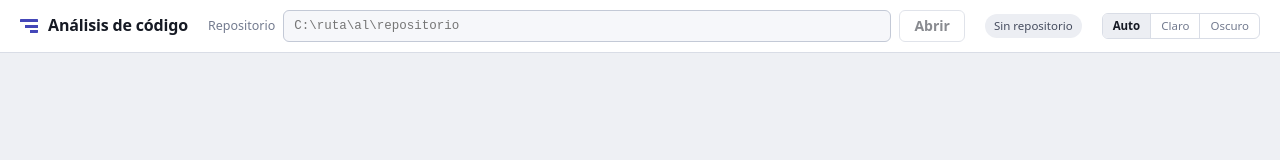
it: WorkspaceBar › un 400 invalid_request se muestra con el texto del cliente y el detalle
In the field labelled "Repositorio": (587, 26) x1=283 y1=10 x2=892 y2=42, type "C:\\repos\\solo-lectura"
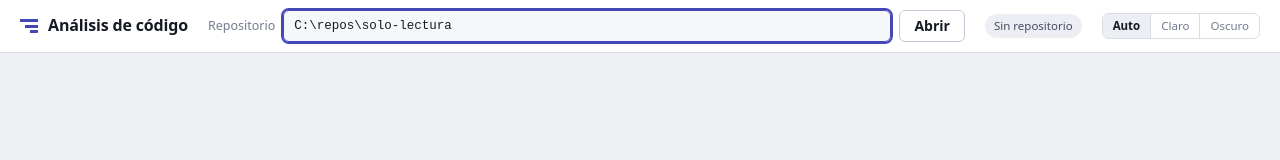
Click the button "Abrir": click(932, 26) x1=899 y1=10 x2=965 y2=42
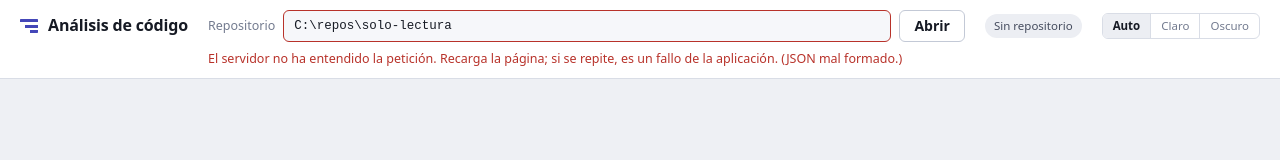
Expected: the message shows "El servidor no ha entendido la petición.", x1=208 y1=50 x2=902 y2=67
Expected: the message shows "(JSON mal formado.)", x1=208 y1=50 x2=902 y2=67
